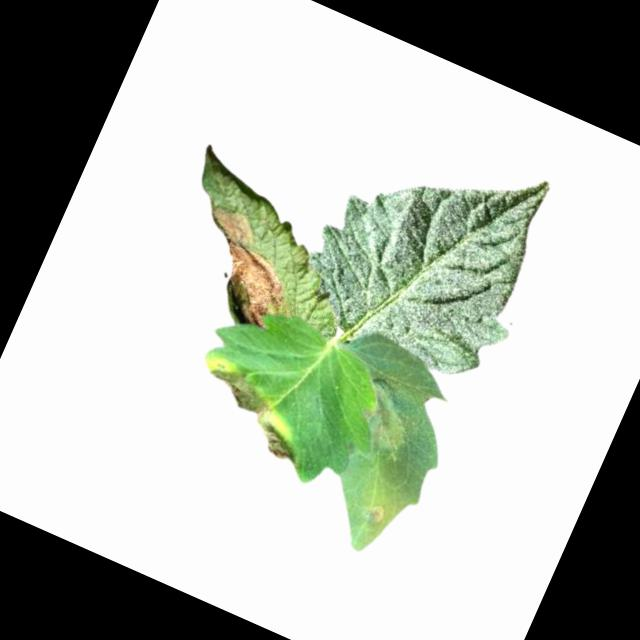Late_blight: (177, 200, 312, 332), (182, 350, 322, 462), (340, 375, 430, 478), (364, 491, 402, 534)
healthy: (287, 104, 573, 392)
